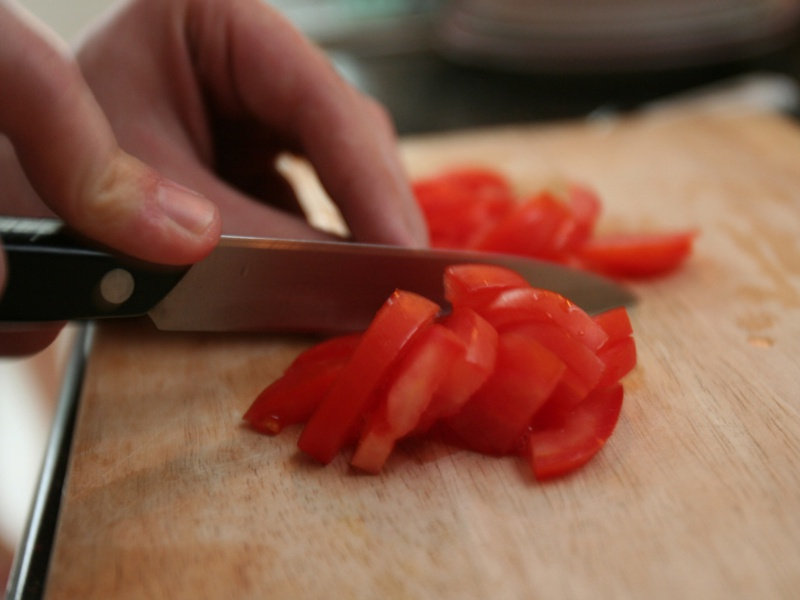knife: (1, 233, 651, 339)
